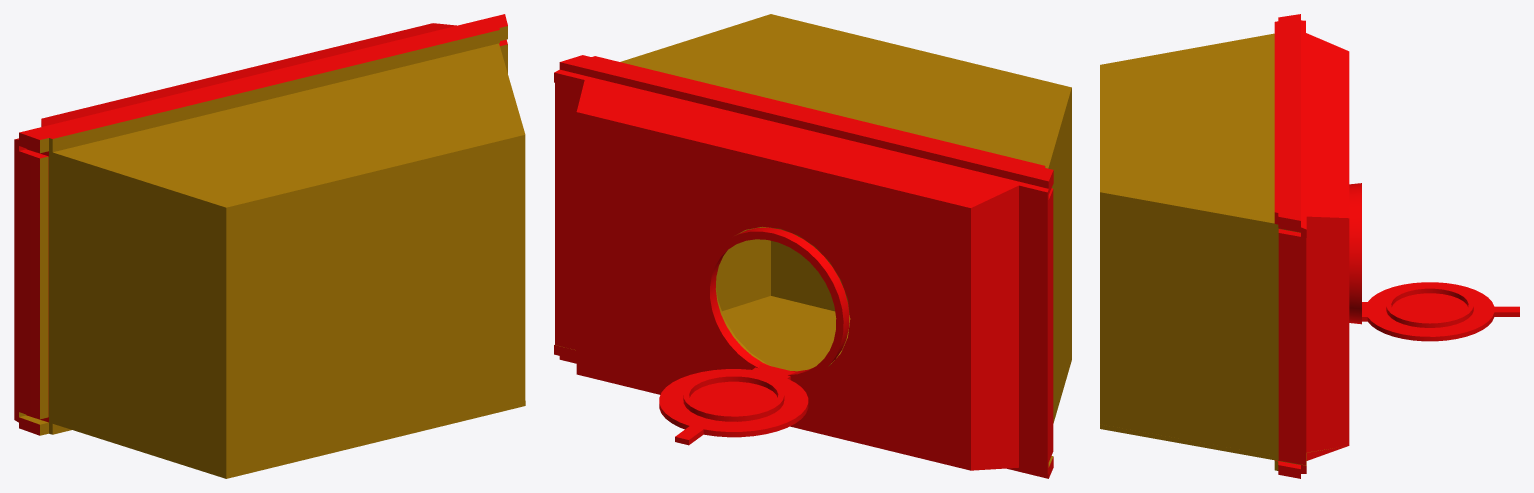
Rendered from caneca algodon.fbx.
3 views of the same model, side by side, from view 1: azimuth 30°, elevation 25°; view 2: azimuth 150°, elevation 25°; view 3: azimuth 270°, elevation 25° (orthographic). The views are drawn at different scales.
Parts seen in each view (by area): view 1: Cut-Extrude3; view 2: Cut-Extrude3, Boss-Extrude9; view 3: Cut-Extrude3, Boss-Extrude9.
Part boxes in pixels (<box>): Cut-Extrude3: <box>14,14,525,478</box>; Cut-Extrude3: <box>554,14,1071,478</box>; Boss-Extrude9: <box>659,227,849,445</box>; Cut-Extrude3: <box>1100,14,1349,478</box>; Boss-Extrude9: <box>1349,183,1519,341</box>.
Bounding box in the file's own units: 3.87 × 2.23 × 3.29.
